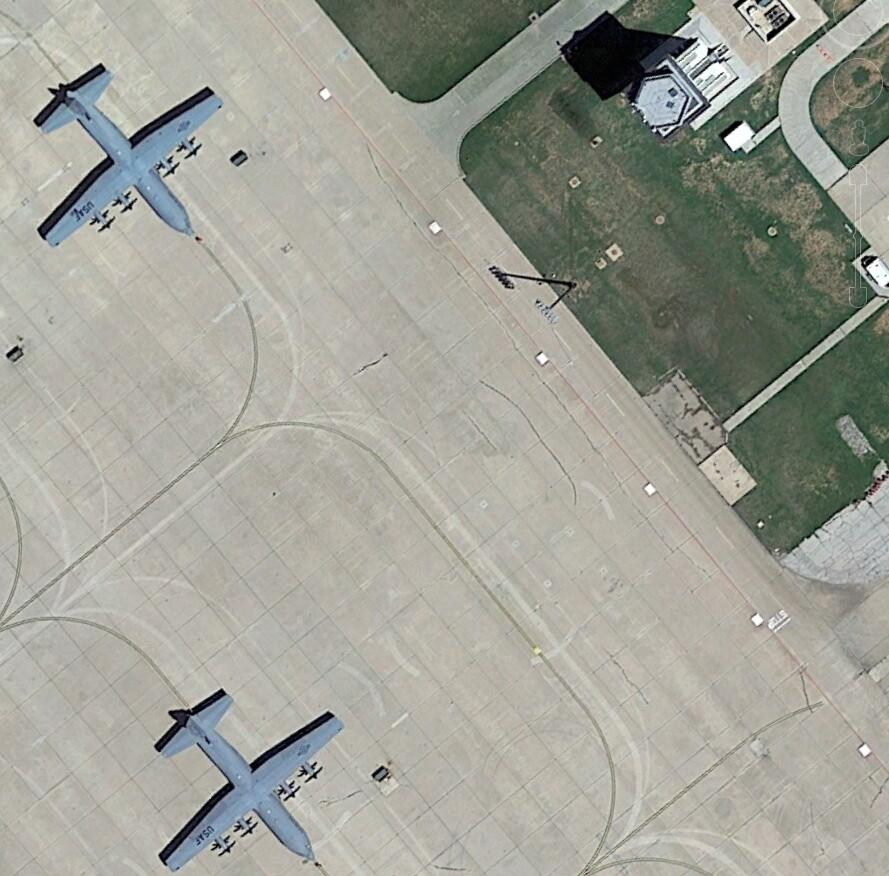A2: (17, 56, 233, 252), (146, 676, 346, 875)
